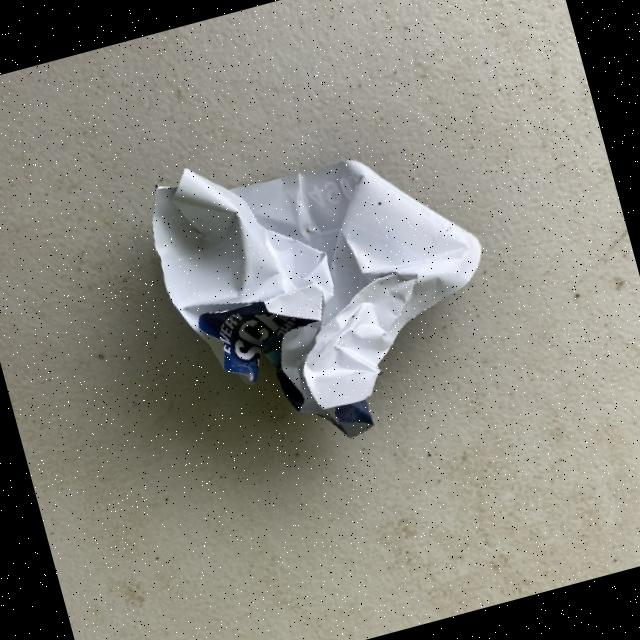paper: (135, 98, 520, 474)
